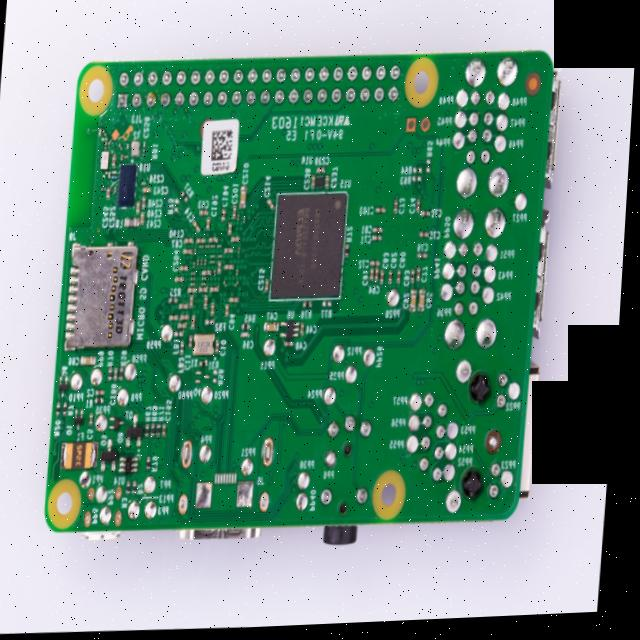-component text- -AEL19-2 0316-: (201, 340, 214, 353)
-component text- -ELPIDA 88132B4PB-90-F 16020R15300-: (290, 204, 325, 294)
-component text- 1601130: (117, 271, 131, 336)
-component text- 3592: (80, 442, 88, 466)
-ferrite bead- FB1: (176, 331, 187, 337)
-ferrite bead- FB2: (208, 320, 218, 326)
-ferrite bead- FB3: (183, 342, 188, 356)
-test point- PP1: (84, 469, 97, 488)
-test point- PP10: (74, 371, 89, 391)
-test point- PP11: (265, 338, 280, 359)
-test point- PP12: (335, 345, 349, 366)
-test point- PP13: (132, 501, 145, 521)
-test point- PP2: (100, 484, 113, 505)
-test point- PP20: (204, 386, 218, 407)
-test point- PP21: (244, 458, 259, 477)
-test point- PP22: (511, 383, 526, 406)
-test point- PP23: (507, 474, 520, 490)
-test point- PP24: (328, 387, 341, 409)
-test point- PP25: (349, 367, 362, 386)
-test point- PP26: (366, 348, 380, 370)
-test point- PP27: (516, 195, 531, 216)
-test point- PP28: (389, 292, 402, 310)
-test point- PP3: (149, 500, 164, 521)
-test point- PP35: (98, 412, 113, 434)
-test point- PP36: (442, 285, 457, 306)
-test point- PP39: (302, 472, 316, 492)
-test point- PP4: (203, 446, 217, 464)
-test point- PP40: (301, 493, 314, 515)
-test point- PP41: (444, 265, 458, 284)
-test point- PP42: (483, 288, 498, 309)
-test point- PP43: (485, 268, 500, 288)
-test point- PP44: (453, 135, 466, 152)
-test point- PP45: (454, 114, 468, 131)
-test point- PP46: (493, 136, 508, 157)
-test point- PP47: (496, 116, 511, 137)
-test point- PP48: (497, 95, 512, 115)
-test point- PP49: (456, 91, 470, 111)
-test point- PP5: (104, 507, 117, 525)
-test point- PP50: (445, 244, 460, 264)
-test point- PP51: (487, 248, 502, 267)
-test point- PP52: (446, 466, 462, 485)
-test point- PP53: (450, 425, 464, 444)
-test point- PP54: (449, 445, 464, 465)
-test point- PP55: (410, 436, 424, 456)
-test point- PP56: (413, 417, 425, 435)
-test point- PP57: (414, 394, 427, 415)
-test point- PP58: (128, 362, 141, 382)
-test point- PP59: (164, 324, 177, 344)
-test point- PP6: (329, 449, 343, 470)
-test point- PP60: (172, 374, 185, 394)
-test point- PP7: (149, 475, 163, 493)
-test point- PP8: (120, 388, 133, 407)
-test point- PP9: (93, 365, 107, 388)
2024: (131, 480, 136, 494)
2031: (202, 361, 212, 368)
2123: (244, 323, 254, 331)
2186: (181, 188, 191, 205)
2188: (123, 365, 128, 382)
2197: (149, 423, 155, 437)
2198: (155, 424, 160, 438)
2200: (67, 401, 72, 414)
2201: (112, 365, 116, 380)
2202: (160, 423, 166, 436)
2207: (305, 302, 315, 309)
2210: (151, 456, 155, 470)
2213: (143, 149, 147, 157)
2249: (217, 358, 219, 362)
2254: (213, 161, 233, 173)
2302: (304, 129, 345, 143)
2401: (301, 115, 335, 129)
2421: (138, 252, 154, 342)
2687: (271, 116, 300, 131)
2845: (223, 339, 230, 357)
2849: (360, 207, 376, 218)
2856: (188, 354, 195, 370)
2889: (186, 207, 197, 223)
2906: (169, 398, 177, 422)
2942: (113, 383, 120, 405)
2945: (170, 228, 187, 239)
2947: (212, 194, 221, 218)
2949: (223, 185, 232, 208)
2955: (90, 387, 98, 397)
2958: (232, 182, 241, 206)
2961: (175, 248, 183, 272)
2968: (243, 163, 251, 186)
2972: (264, 176, 273, 199)
2973: (259, 268, 269, 292)
2997: (331, 168, 340, 191)
2998: (304, 169, 313, 192)
2999: (315, 157, 331, 167)
3001: (148, 208, 164, 218)
3002: (148, 218, 164, 228)
3004: (154, 185, 170, 196)
3006: (103, 204, 111, 228)
3009: (149, 198, 165, 208)
3014: (110, 205, 117, 227)
3017: (150, 173, 166, 184)
3019: (143, 116, 151, 139)
3184: (308, 325, 321, 336)
3185: (269, 312, 282, 322)
3186: (299, 342, 311, 352)
3188: (91, 427, 98, 439)
3203: (199, 199, 211, 210)
3206: (71, 355, 83, 365)
3207: (173, 238, 185, 249)
3212: (361, 236, 374, 246)
3213: (360, 261, 372, 271)
3214: (399, 198, 406, 218)
3215: (410, 199, 418, 217)
3216: (431, 232, 443, 242)
3217: (419, 244, 431, 256)
3218: (423, 266, 432, 287)
3220: (432, 210, 444, 221)
3222: (402, 253, 409, 271)
3223: (363, 227, 374, 236)
3224: (393, 254, 400, 272)
3225: (385, 254, 391, 271)
3226: (370, 285, 383, 297)
3227: (429, 293, 436, 311)
3234: (364, 273, 372, 289)
3235: (405, 295, 414, 312)
3236: (405, 270, 413, 290)
3237: (232, 314, 239, 332)
3239: (245, 339, 258, 352)
3337: (285, 130, 298, 143)
3359: (81, 431, 89, 441)
3362: (175, 339, 184, 355)
3363: (217, 322, 230, 332)
3364: (180, 356, 189, 374)
3493: (131, 114, 143, 124)
3514: (261, 477, 270, 487)
3518: (70, 229, 79, 242)
3569: (116, 218, 126, 228)
3583: (333, 115, 352, 129)
3699: (96, 472, 109, 484)
3700: (72, 391, 89, 401)
3701: (263, 360, 280, 372)
3702: (350, 346, 366, 359)
3703: (164, 493, 179, 504)
3704: (113, 488, 120, 505)
3705: (217, 390, 234, 401)
3706: (245, 448, 262, 458)
3707: (509, 405, 525, 416)
3708: (506, 463, 522, 474)
3709: (311, 390, 327, 401)
3710: (333, 372, 348, 381)
3711: (379, 347, 388, 371)
3712: (514, 216, 530, 226)
3713: (388, 310, 404, 322)
3714: (163, 506, 176, 516)
3716: (100, 404, 115, 413)
3717: (440, 310, 455, 320)
3718: (303, 460, 320, 473)
3719: (205, 434, 217, 445)
3720: (315, 490, 322, 515)
3721: (435, 260, 444, 282)
3722: (499, 293, 515, 306)
3723: (500, 272, 516, 285)
3724: (436, 139, 452, 150)
3725: (437, 118, 453, 129)
3726: (509, 141, 525, 152)
3727: (511, 119, 527, 132)
3728: (512, 99, 529, 110)
3729: (438, 97, 455, 109)
3730: (97, 507, 104, 525)
3731: (445, 219, 454, 242)
3732: (502, 250, 518, 264)
3733: (462, 458, 479, 471)
3734: (465, 426, 482, 439)
3735: (462, 447, 481, 458)
3736: (393, 442, 410, 453)
3737: (395, 420, 411, 430)
3738: (396, 398, 413, 408)
3739: (134, 353, 151, 362)
3740: (149, 339, 165, 350)
3741: (327, 471, 340, 482)
3742: (182, 389, 197, 400)
3743: (164, 480, 177, 490)
3744: (134, 390, 148, 403)
3745: (101, 350, 107, 366)
3753: (70, 424, 77, 436)
3756: (105, 433, 113, 446)
3757: (197, 386, 205, 398)
3759: (65, 363, 72, 376)
3760: (129, 409, 137, 421)
3761: (122, 431, 129, 444)
3766: (89, 398, 98, 408)
3877: (142, 482, 148, 495)
3878: (57, 419, 66, 437)
3932: (172, 288, 185, 298)
3985: (126, 497, 133, 509)
3993: (212, 361, 222, 371)
4089: (247, 313, 259, 324)
4154: (185, 182, 196, 199)
4155: (221, 368, 228, 387)
4156: (123, 349, 131, 366)
4161: (401, 177, 413, 188)
4162: (402, 167, 414, 177)
4163: (426, 143, 435, 161)
4165: (149, 404, 156, 423)
4166: (156, 404, 162, 422)
4168: (71, 404, 79, 416)
4169: (111, 349, 118, 366)
4170: (161, 404, 170, 422)
4171: (348, 227, 356, 245)
4175: (304, 310, 316, 321)
4176: (324, 310, 336, 321)
4178: (156, 455, 165, 473)
4181: (153, 142, 160, 160)
4346: (118, 476, 130, 486)
4347: (340, 179, 353, 192)
4348: (300, 156, 315, 167)
4351: (140, 162, 152, 172)
4368: (289, 311, 300, 321)
4405: (193, 358, 202, 369)
4408: (134, 130, 142, 140)
4440: (78, 406, 89, 429)
4444: (104, 437, 126, 471)
4448: (62, 374, 73, 395)
4449: (130, 413, 148, 446)
4450: (113, 414, 130, 431)
4468: (101, 151, 110, 169), (417, 200, 422, 216), (213, 302, 218, 317), (195, 315, 200, 330), (210, 237, 220, 244), (227, 264, 237, 271), (206, 295, 211, 309), (181, 303, 191, 310), (104, 138, 109, 150), (226, 248, 236, 254), (177, 277, 187, 283), (212, 287, 222, 293), (201, 287, 211, 293), (190, 287, 200, 293), (172, 315, 182, 321), (183, 315, 193, 321), (113, 153, 117, 167), (230, 222, 234, 236), (220, 261, 224, 275), (192, 295, 196, 309), (197, 238, 208, 243), (233, 237, 242, 243), (205, 270, 214, 276), (232, 297, 241, 303), (181, 323, 190, 329), (102, 129, 108, 137), (119, 142, 124, 150), (108, 140, 112, 149), (225, 281, 230, 287), (127, 142, 131, 149), (112, 175, 119, 179), (102, 186, 107, 191), (109, 170, 112, 178), (113, 170, 119, 174), (238, 215, 242, 221), (195, 249, 199, 255), (206, 259, 210, 265), (237, 282, 241, 288), (202, 244, 206, 249), (213, 254, 217, 259), (213, 260, 217, 265), (121, 154, 124, 160), (240, 247, 243, 253), (238, 270, 241, 276), (203, 259, 206, 265), (199, 259, 202, 265), (213, 245, 217, 249), (207, 245, 211, 249), (221, 254, 225, 258), (194, 271, 198, 275), (193, 277, 197, 281), (205, 277, 209, 281), (193, 283, 197, 287), (245, 217, 247, 224), (125, 155, 129, 158), (219, 245, 223, 248), (216, 270, 218, 276), (196, 262, 198, 268), (204, 282, 208, 285)
4485: (283, 320, 303, 341)
capacitor C100: (218, 340, 223, 354)
capacitor C104: (377, 209, 387, 215)
capacitor C110: (191, 335, 196, 348)
capacitor C140: (193, 220, 203, 234)
capacitor C156: (167, 423, 171, 437)
capacitor C189: (117, 367, 122, 381)
capacitor C191: (185, 238, 196, 244)
capacitor C193: (208, 218, 212, 232)
capacitor C195: (223, 210, 227, 222)
capacitor C20: (99, 388, 109, 396)
capacitor C202: (234, 206, 238, 220)
capacitor C205: (182, 265, 192, 272)
capacitor C211: (241, 185, 249, 210)
capacitor C215: (268, 199, 277, 213)
capacitor C216: (267, 279, 273, 294)
capacitor C238: (326, 175, 331, 191)
capacitor C239: (312, 175, 317, 190)
capacitor C24: (317, 168, 328, 175)
capacitor C241: (138, 200, 142, 214)
capacitor C242: (142, 212, 146, 225)
capacitor C244: (143, 187, 152, 193)
capacitor C246: (107, 186, 112, 200)
capacitor C249: (143, 195, 148, 209)
capacitor C254: (115, 187, 118, 194)
capacitor C257: (143, 181, 147, 185)
capacitor C259: (144, 141, 147, 147)
capacitor C47: (303, 323, 308, 337)
capacitor C48: (266, 321, 283, 334)
capacitor C49: (287, 342, 297, 348)
capacitor C50: (93, 411, 98, 426)
capacitor C64: (200, 210, 210, 216)
capacitor C67: (83, 355, 100, 365)
capacitor C68: (185, 249, 195, 255)
capacitor C72: (374, 236, 384, 243)
capacitor C73: (372, 262, 382, 269), (347, 245, 352, 259)
capacitor C74: (395, 201, 399, 217)
capacitor C76: (421, 233, 431, 241)
capacitor C77: (419, 255, 429, 261)
capacitor C78: (419, 270, 423, 284)
capacitor C8: (423, 213, 432, 219)
capacitor C81: (399, 271, 404, 287)
capacitor C82: (374, 229, 385, 235)
capacitor C83: (390, 271, 397, 287)
capacitor C84: (382, 271, 388, 288)
capacitor C85: (377, 270, 382, 284)
capacitor C86: (421, 292, 429, 314)
capacitor C92: (372, 269, 377, 284)
capacitor C93: (413, 291, 420, 315)
capacitor C94: (413, 271, 418, 287)
capacitor C95: (228, 304, 232, 318)
capacitor C97: (243, 333, 254, 339)
clock X2: (198, 335, 217, 356)
clock XT1: (132, 140, 141, 157)
connector: (403, 115, 433, 139)
connector JN: (67, 240, 144, 352)
fuse FUSE2: (65, 439, 103, 469)
ic U14: (124, 454, 144, 474)
ic U15: (272, 193, 349, 302)
ic U18: (316, 176, 327, 190)
ic U19: (118, 163, 139, 206)
inductor L9: (126, 217, 141, 227)
pads J13: (111, 124, 134, 141)
pads J5: (198, 473, 262, 512)
pads R58: (217, 370, 221, 386)
pads R63: (413, 177, 423, 185)
pads R64: (414, 168, 424, 176)
pads R65: (427, 160, 433, 176)
pads R75: (176, 197, 181, 213)
pads R77: (325, 301, 335, 309)
pads unknown: (197, 370, 214, 385)
pins unknown: (116, 59, 403, 116), (453, 165, 513, 244), (444, 317, 502, 388), (422, 392, 454, 489), (455, 243, 487, 320), (466, 90, 497, 167), (462, 57, 521, 92), (327, 413, 380, 443), (263, 432, 281, 513), (181, 438, 199, 517), (324, 485, 375, 511), (447, 489, 470, 518), (499, 373, 514, 415), (493, 463, 507, 503), (88, 485, 101, 528), (117, 485, 130, 527)
resistor R10: (99, 396, 109, 403)
resistor R20: (137, 481, 142, 494)
resistor R200: (60, 402, 66, 414)
resistor R250: (171, 297, 181, 304)
